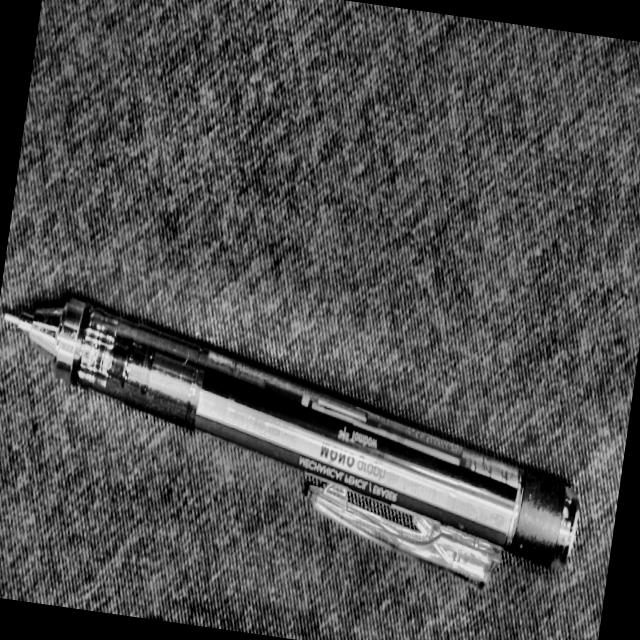Pen: (0, 292, 632, 615)
